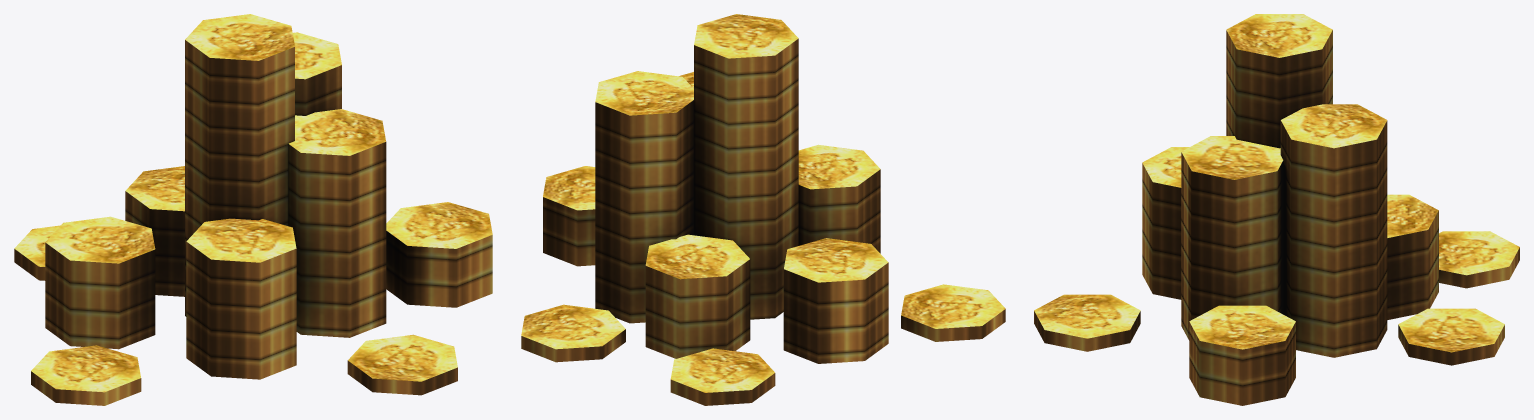
File: Loot_coins_02.FBX
3 renders of one model, left to right at view 1: azimuth 30°, elevation 25°; view 2: azimuth 150°, elevation 25°; view 3: azimuth 270°, elevation 25°, orthographic. The views are drawn at different scales.
Parts seen in each view (by area): view 1: Loot_coins_02; view 2: Loot_coins_02; view 3: Loot_coins_02.
Part boxes in pixels (x1,y1,x2,y2): Loot_coins_02: [14, 14, 492, 405]; Loot_coins_02: [521, 14, 1005, 405]; Loot_coins_02: [1034, 14, 1519, 405].
Size of the model in its own units: 13.89 by 8 by 13.31.
